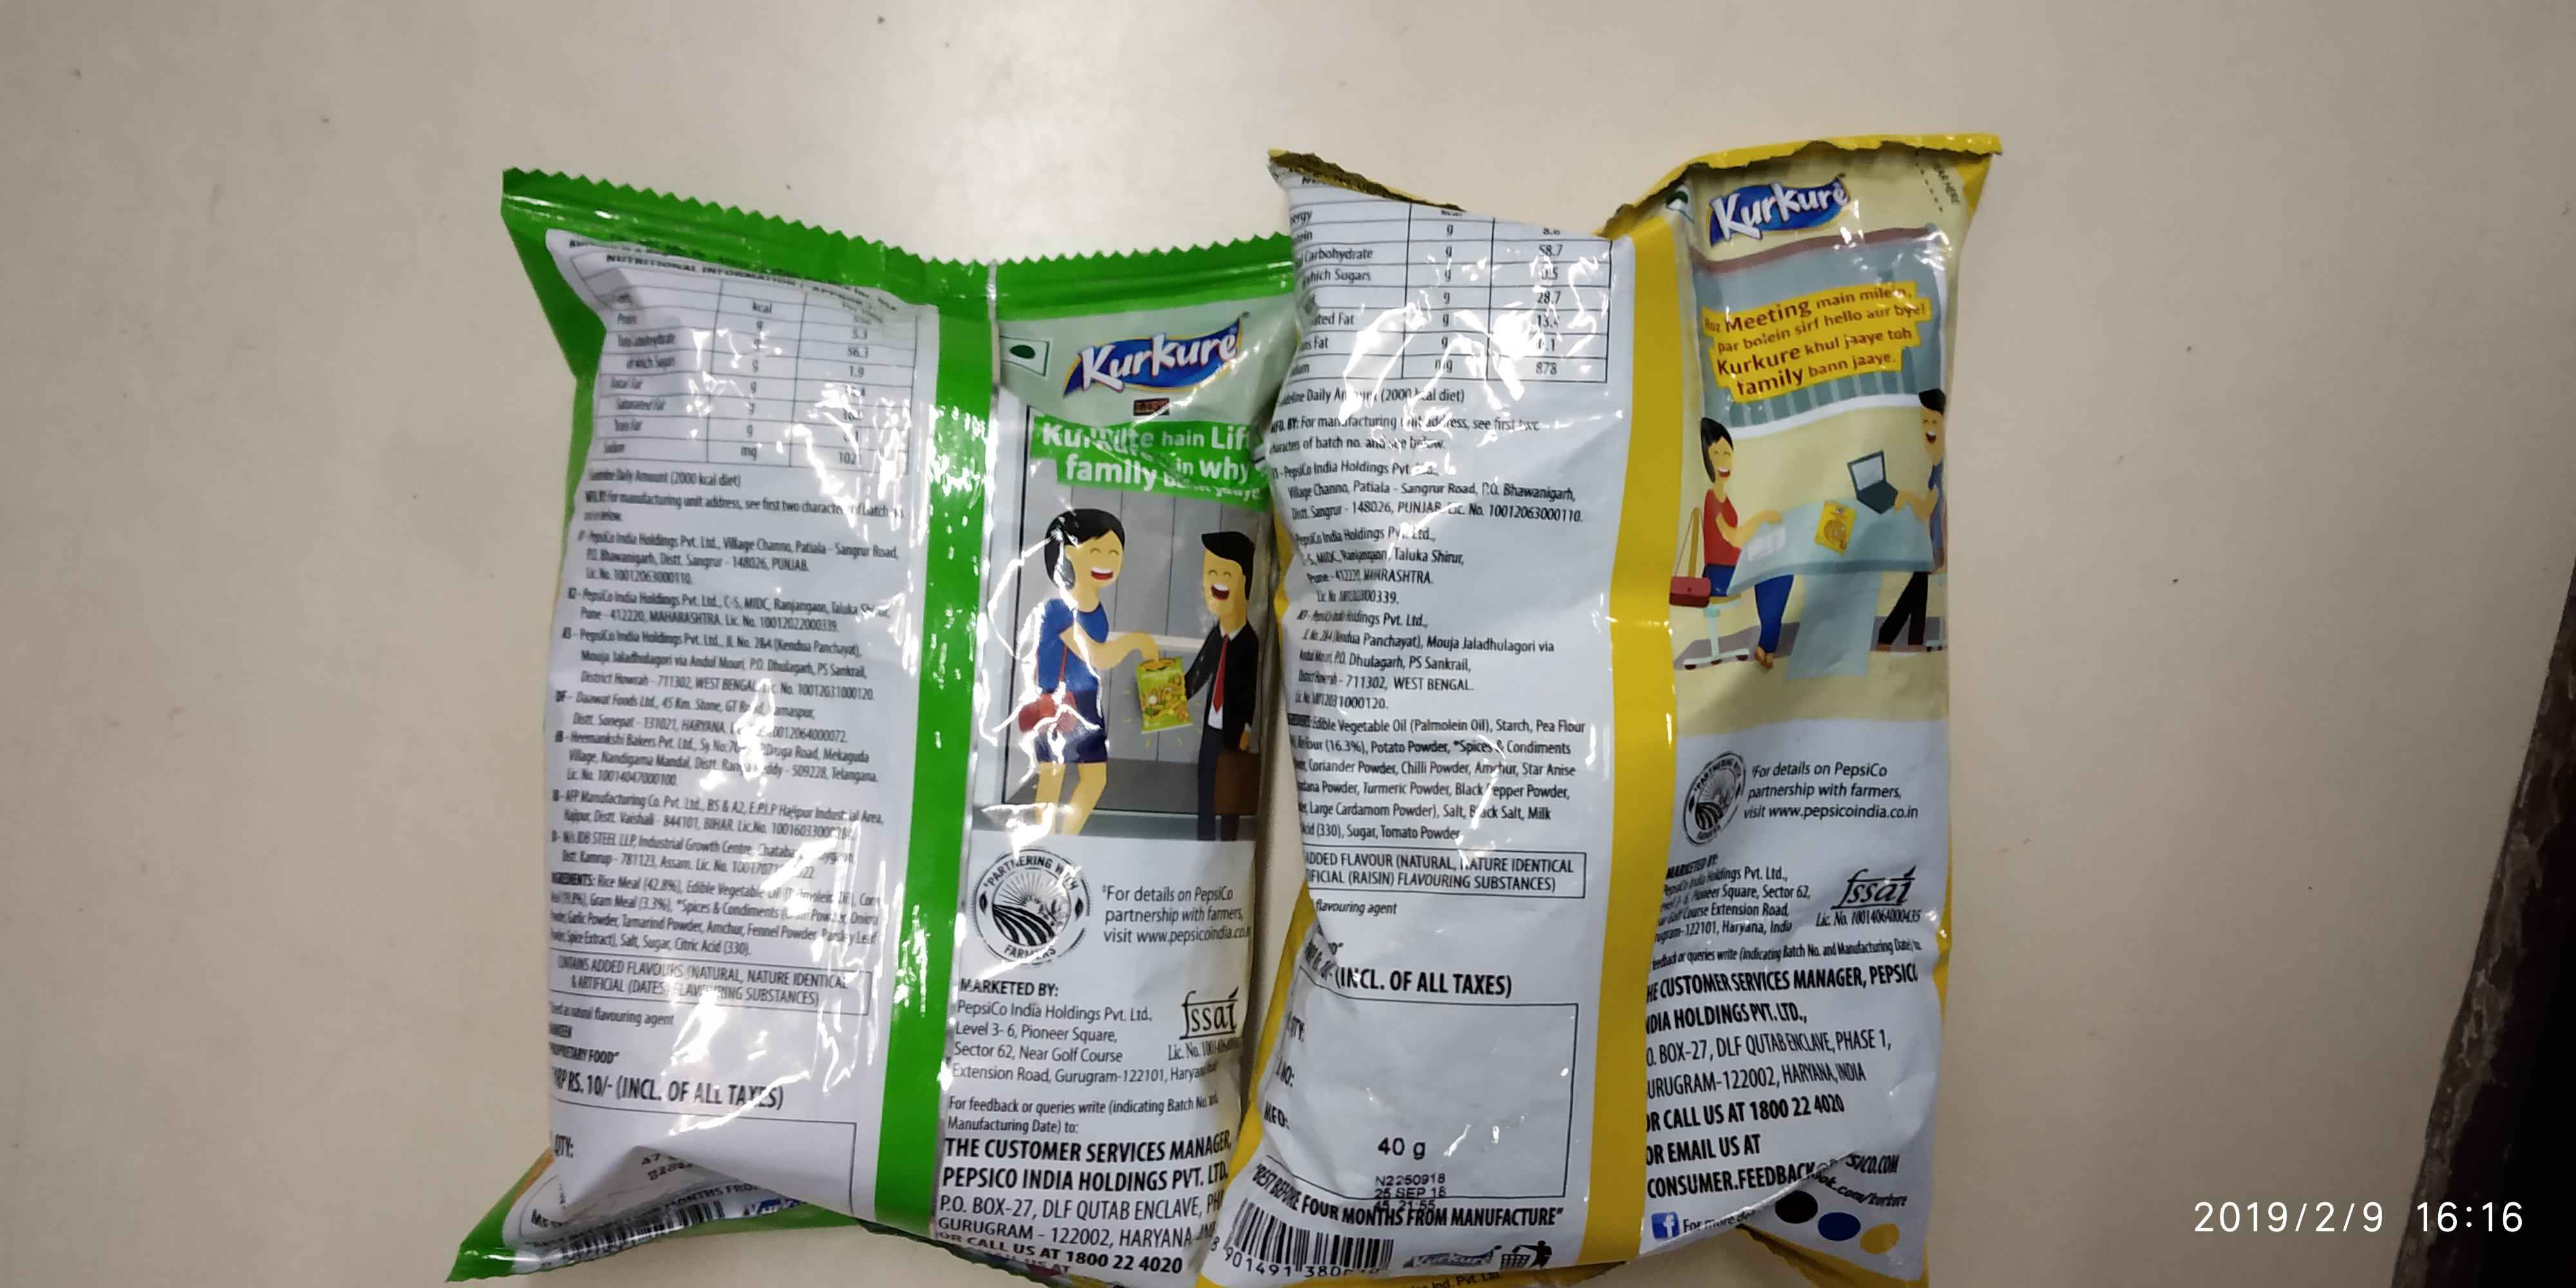kurkure: (1050, 297, 1281, 425), (1681, 164, 1879, 268)
